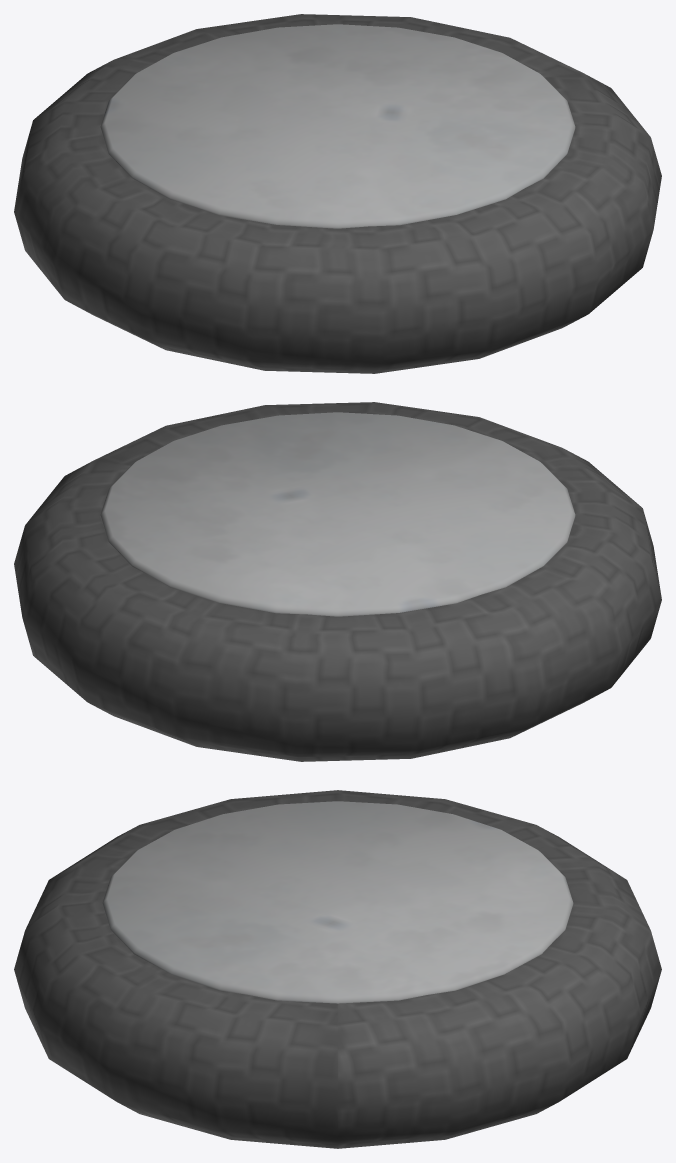
The model's file is PatioTable.glb.
3 renders of one model, top to bottom at view 1: azimuth 30°, elevation 25°; view 2: azimuth 150°, elevation 25°; view 3: azimuth 270°, elevation 25°, orthographic.
Parts seen in each view (by area): view 1: poolTable_low; view 2: poolTable_low; view 3: poolTable_low.
Boxes of the visible parts, box(x1,y1,x2,y2) form: poolTable_low: box(14, 14, 661, 373); poolTable_low: box(14, 402, 661, 761); poolTable_low: box(14, 790, 661, 1148).
Size of what is drawn, in the model's own units: 2.09 by 0.4861 by 2.09.
Materials: 2 (2 with a texture image).
